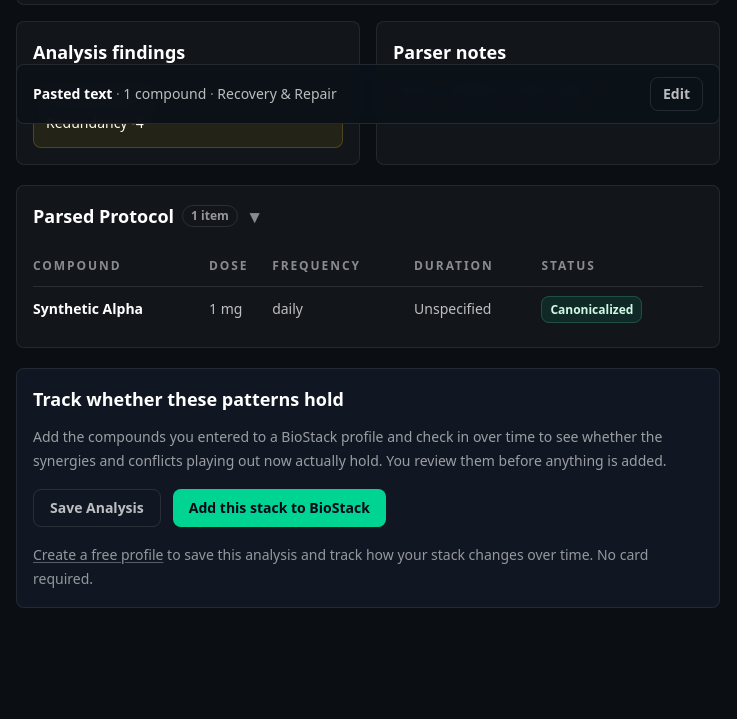
Test: AnalyzerExperience › storage failure recovery › drops a stale success notice when a later save fails
(page scrolled)
Click the button "Save Analysis": click(97, 508) [33, 489, 161, 527]
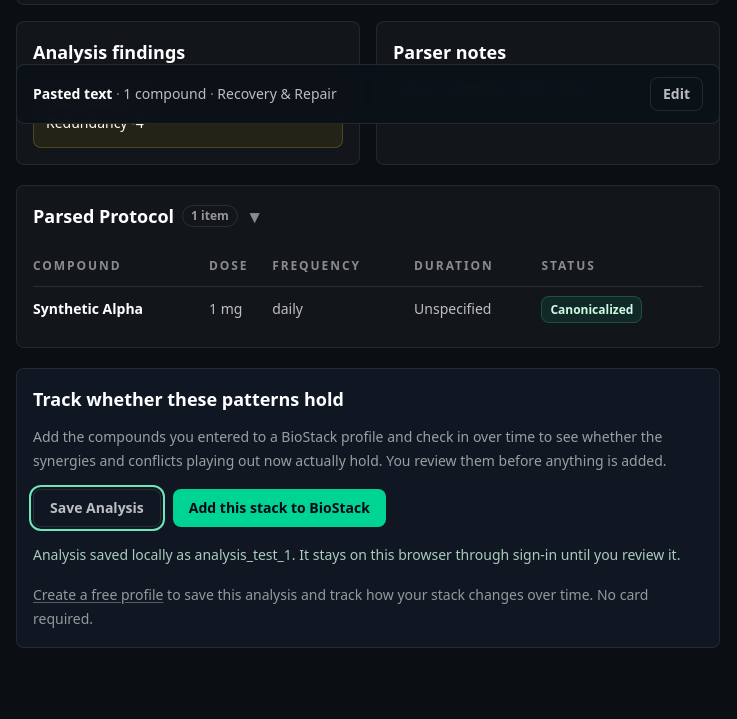
Result: the text "Analysis saved locally" is shown at [33, 545, 173, 564]
Click the button "Save Analysis": click(97, 508) [33, 489, 161, 527]
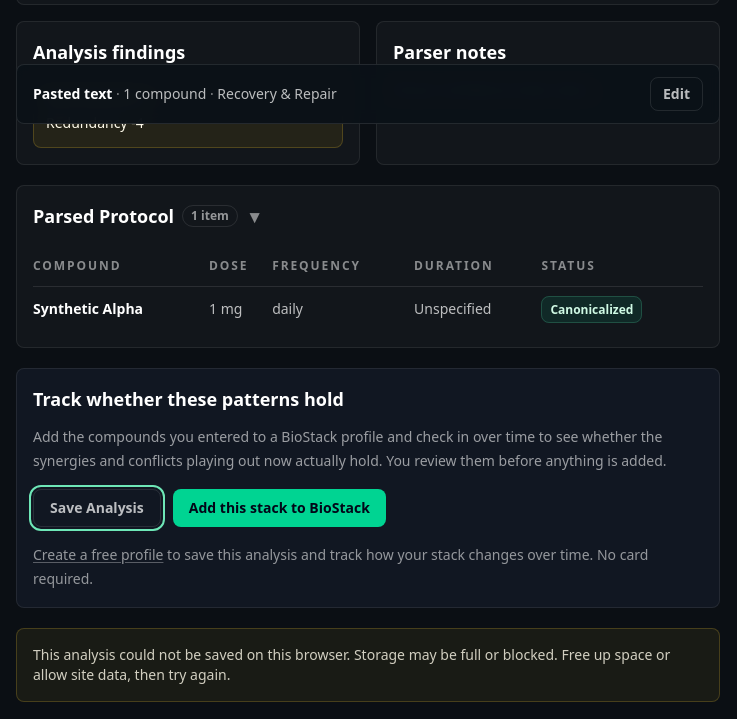
Result: the message is shown at [16, 628, 720, 702]
Result: the text "Analysis saved locally" is gone
